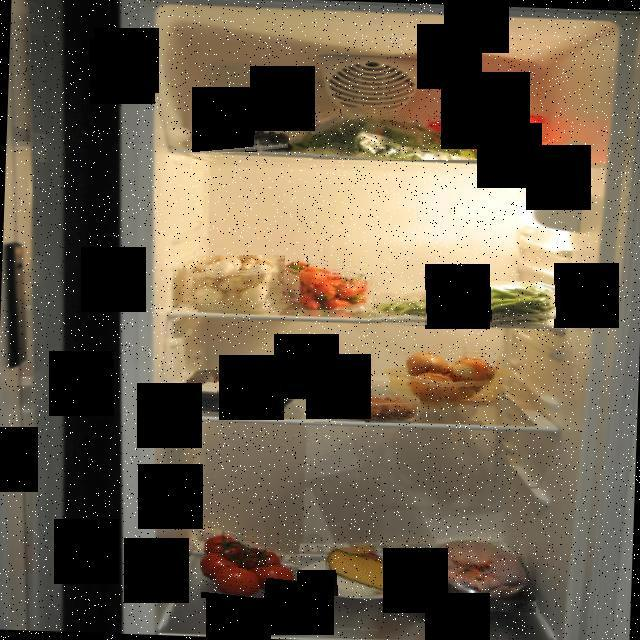beef: (194, 370, 282, 404)
blueberries: (198, 124, 292, 156)
butter: (436, 114, 549, 161)
cheese: (325, 542, 391, 596)
chicken: (406, 533, 536, 612)
green_beans: (368, 282, 566, 328)
mushrooms: (178, 255, 286, 312)
onion: (405, 344, 498, 401)
shrimp: (312, 384, 420, 424)
spinach: (296, 109, 495, 160)
strawberries: (275, 256, 376, 310)
tomato: (200, 530, 300, 598)
